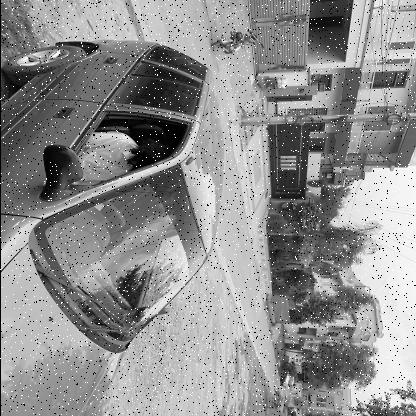no_seatbelt: (80, 119, 172, 172)
